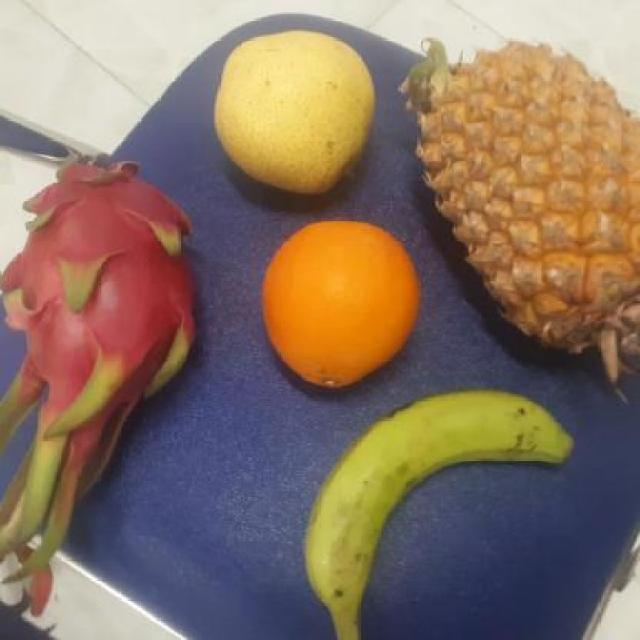banana: (302, 382, 570, 616)
dragon fruit: (0, 162, 195, 425)
oren: (253, 216, 419, 387)
pear: (209, 20, 374, 191)
